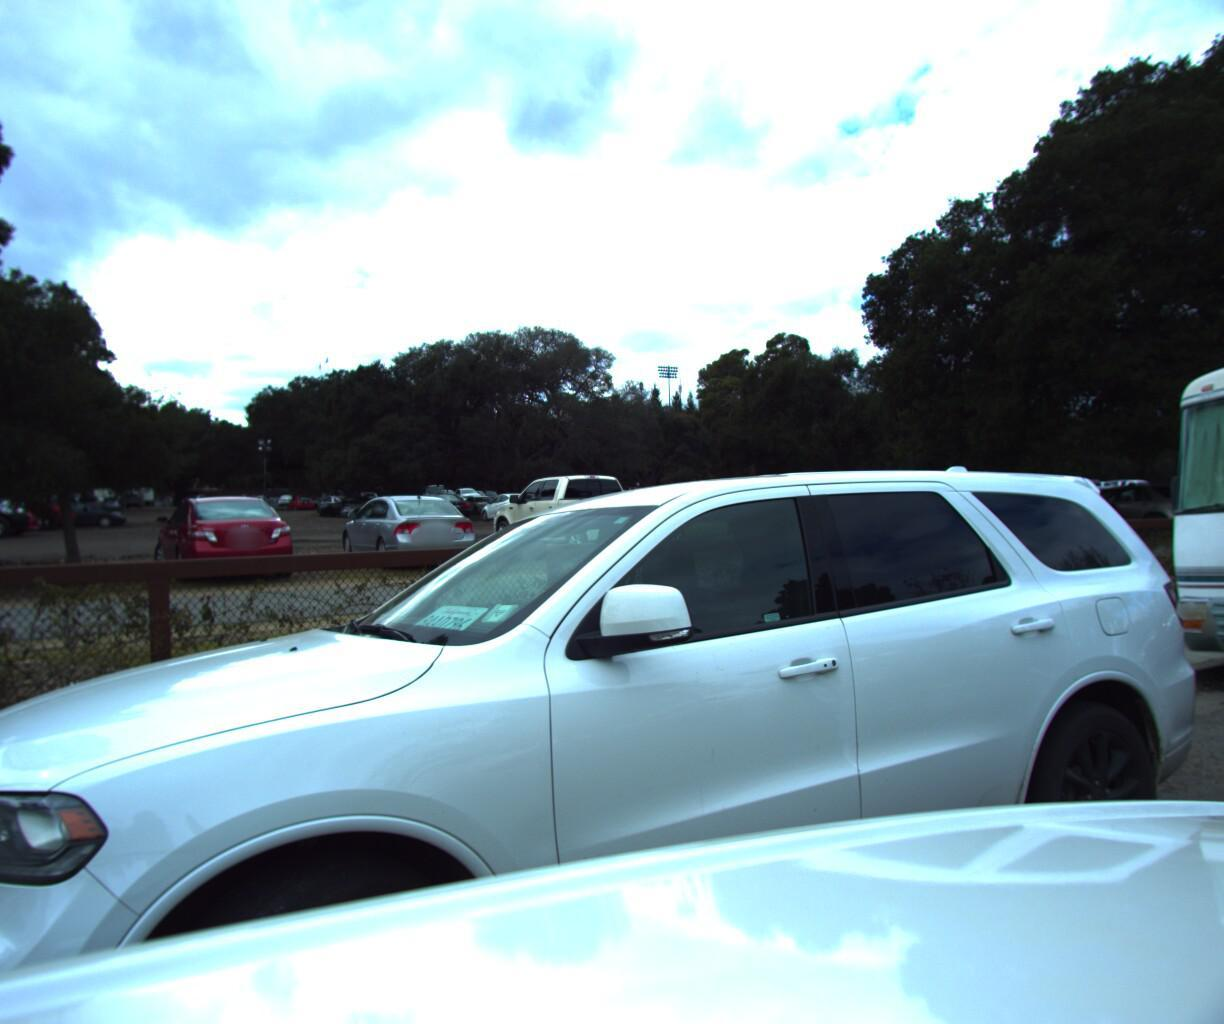car: (0, 416, 1224, 1024)
other_vehicle: (1109, 196, 1224, 764)
